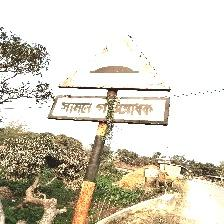Speed-breaker: (48, 27, 170, 126)
